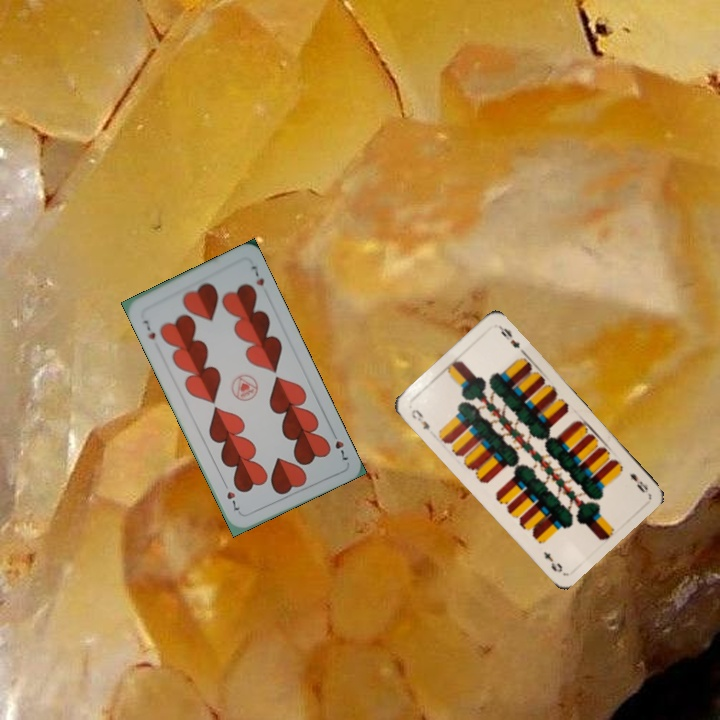E9: (407, 405, 432, 432), (626, 469, 651, 495)
H7: (328, 426, 351, 465), (139, 316, 158, 342)
